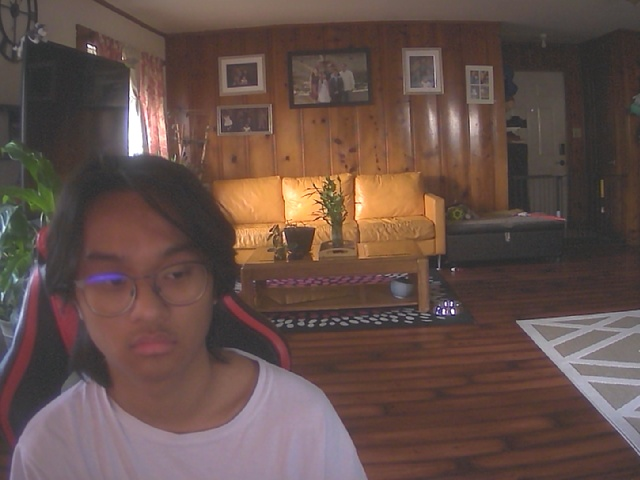neutral: (63, 159, 230, 384)
